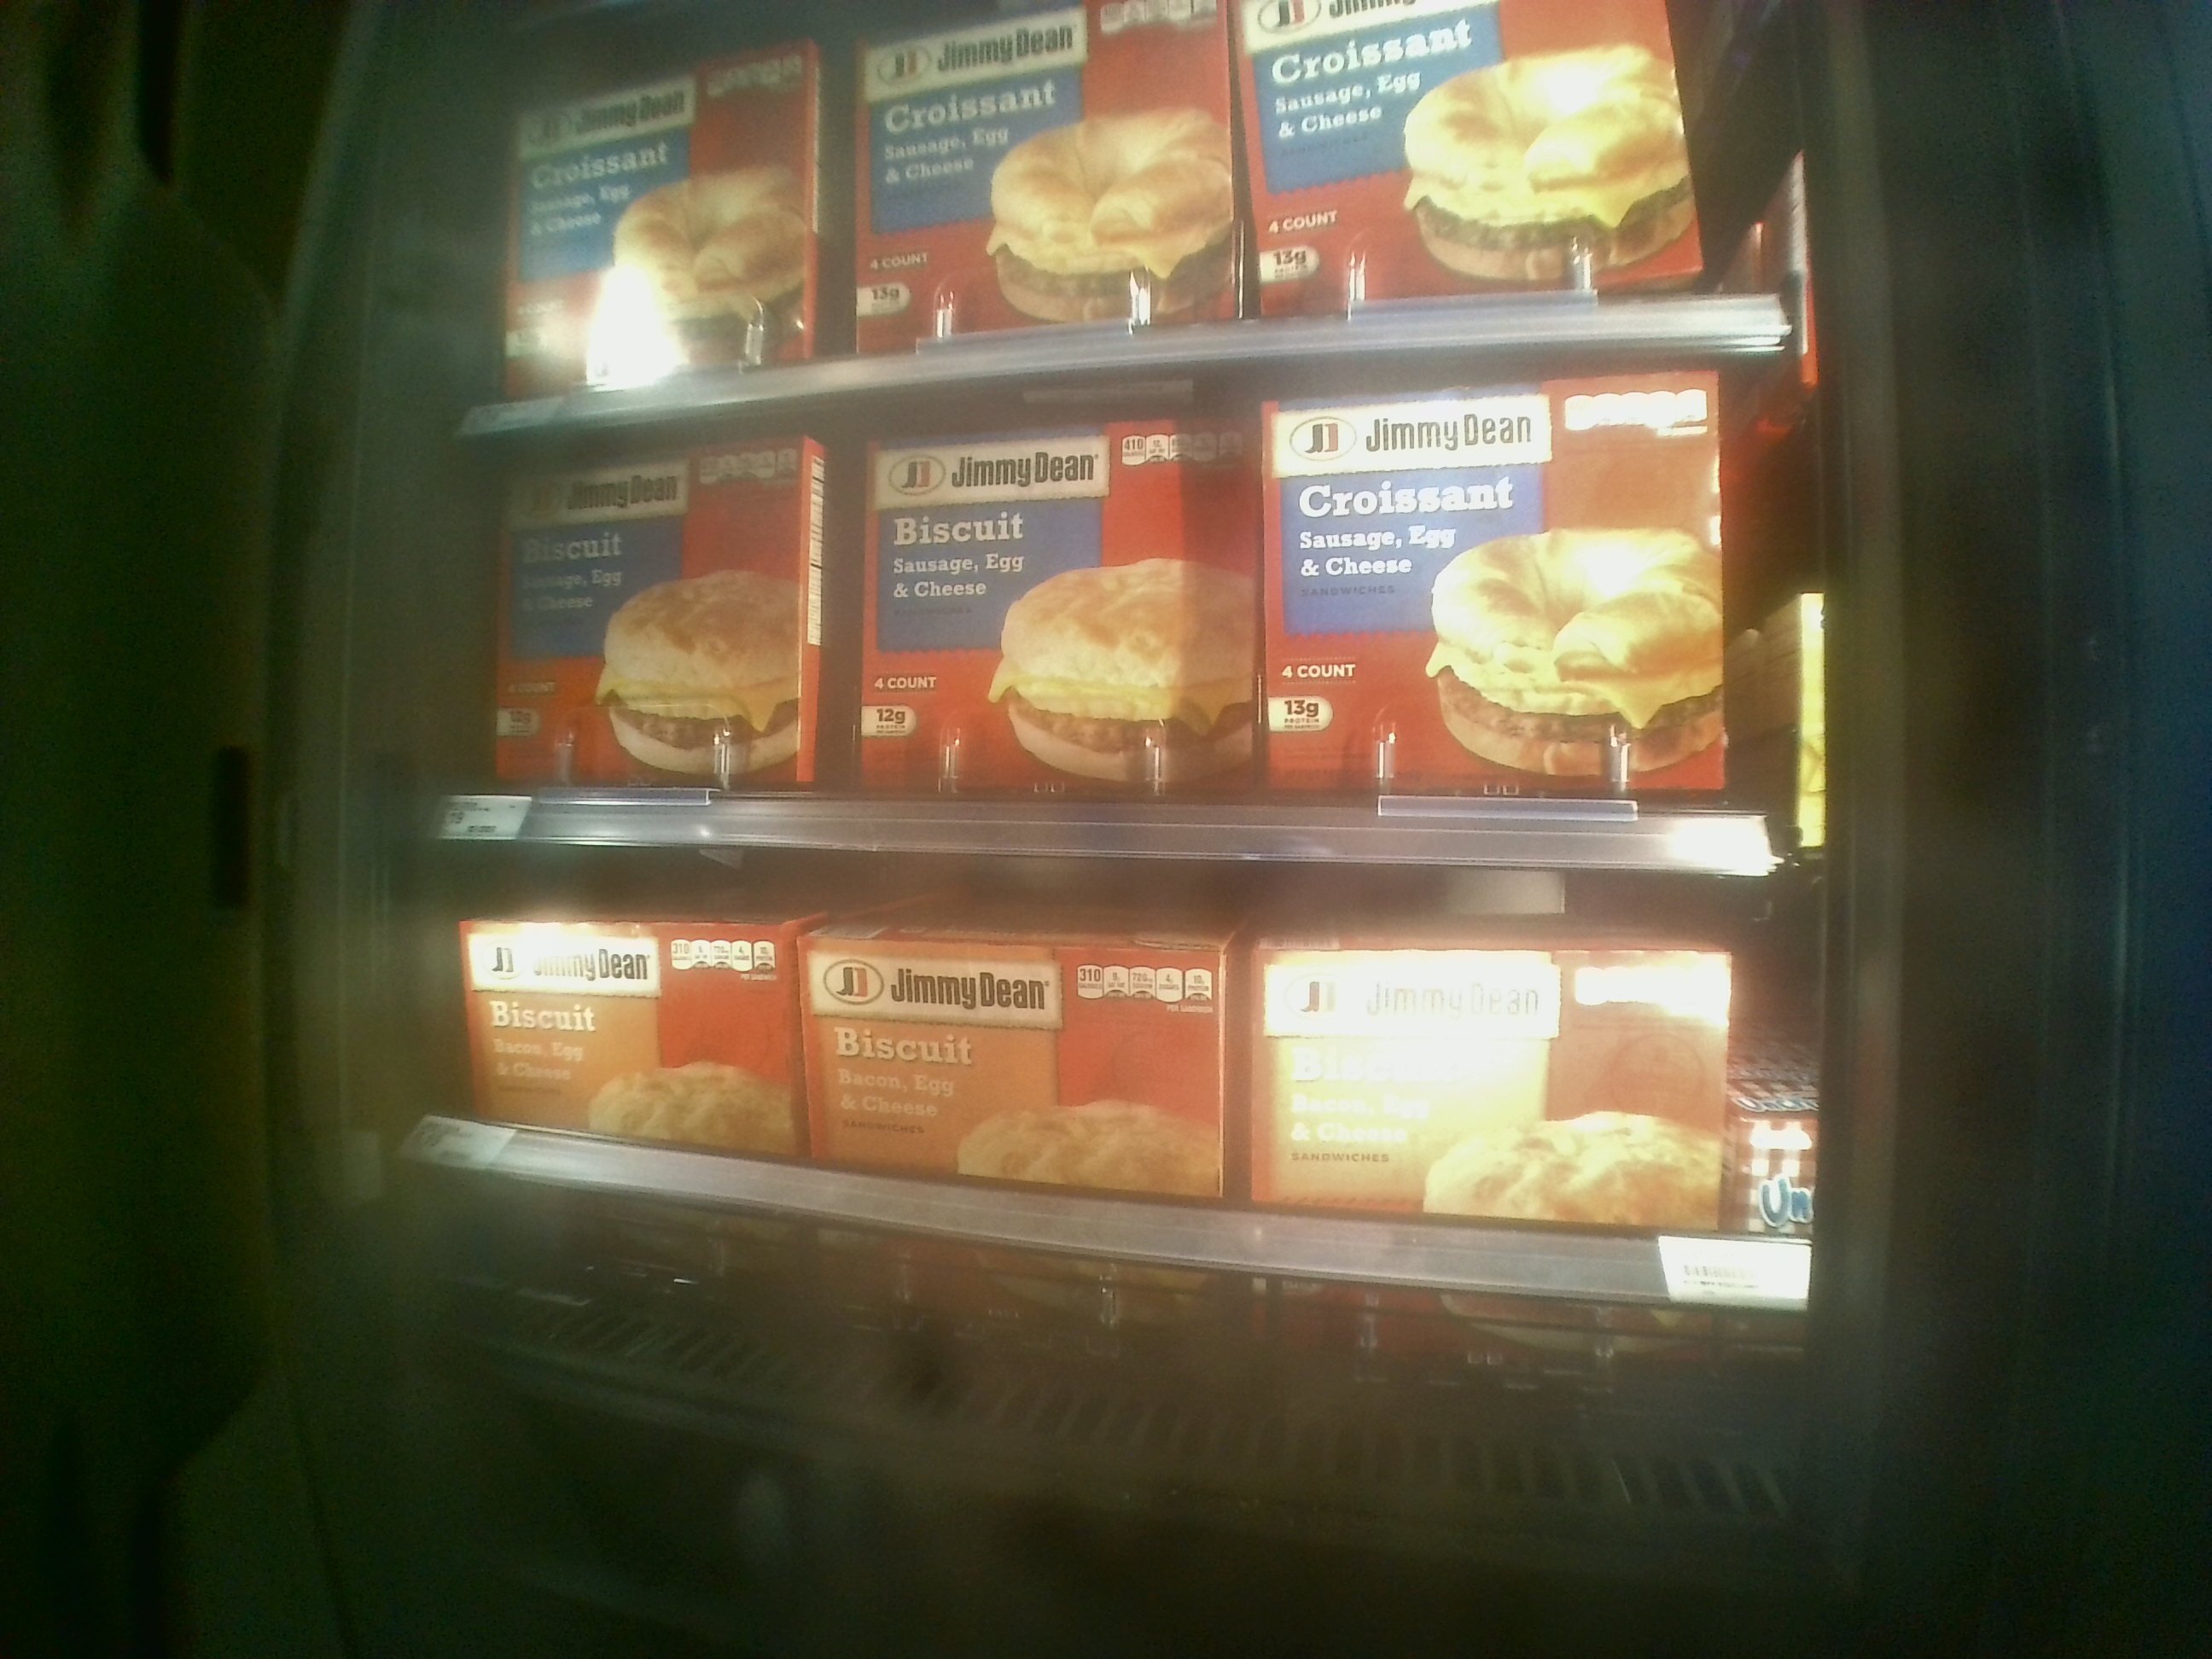shelf: (444, 852, 1815, 1476), (463, 347, 1834, 917)
